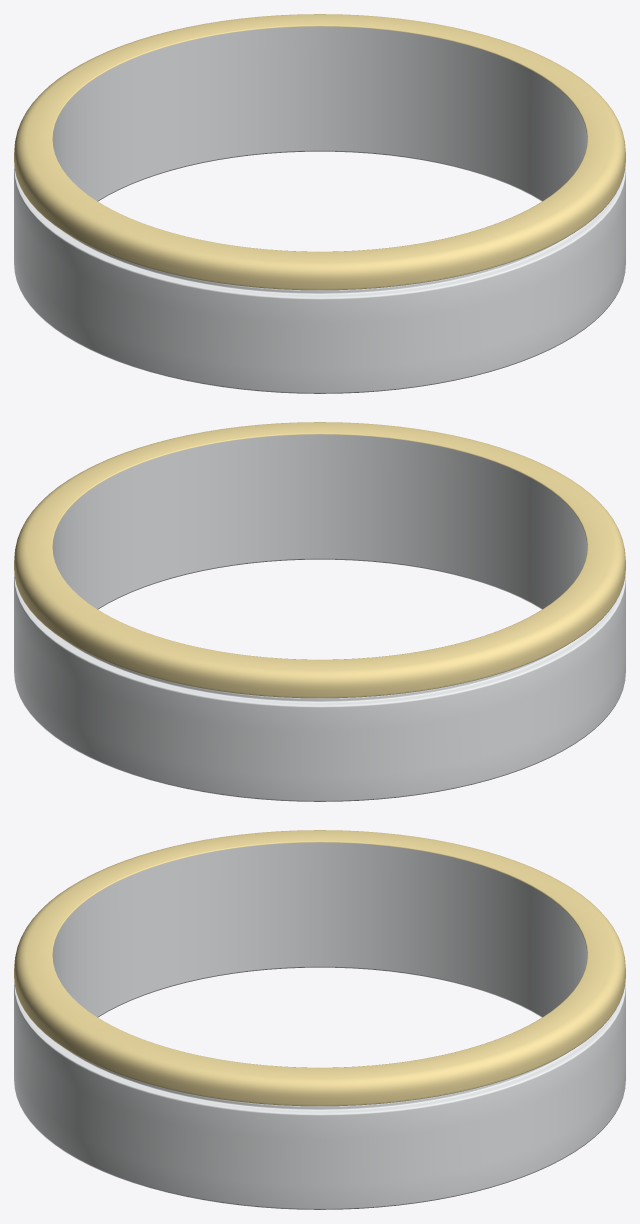
3 views of the same model, one above another, from view 1: azimuth 30°, elevation 25°; view 2: azimuth 150°, elevation 25°; view 3: azimuth 270°, elevation 25° (orthographic).
Visible parts, largest first — view 1: Base_Metal, Engraving_Metal, Finishing_Metal; view 2: Base_Metal, Engraving_Metal, Finishing_Metal; view 3: Base_Metal, Engraving_Metal, Finishing_Metal.
Boxes of the visible parts, left/top/right/bottom form: Base_Metal: left=14, top=150, right=625, bottom=393; Engraving_Metal: left=52, top=26, right=587, bottom=200; Finishing_Metal: left=14, top=14, right=625, bottom=290; Base_Metal: left=14, top=558, right=625, bottom=801; Engraving_Metal: left=52, top=434, right=587, bottom=608; Finishing_Metal: left=14, top=422, right=625, bottom=698; Base_Metal: left=14, top=966, right=625, bottom=1209; Engraving_Metal: left=52, top=842, right=587, bottom=1016; Finishing_Metal: left=14, top=830, right=625, bottom=1106.
Bounding box in the file's own units: 1.97 × 0.4499 × 1.97.
